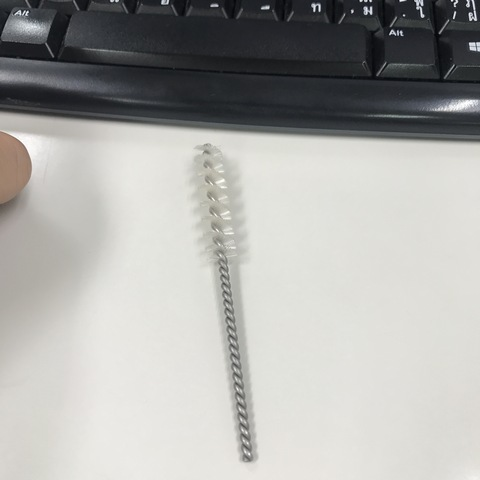Twist Brush-B: (191, 142, 264, 468)
